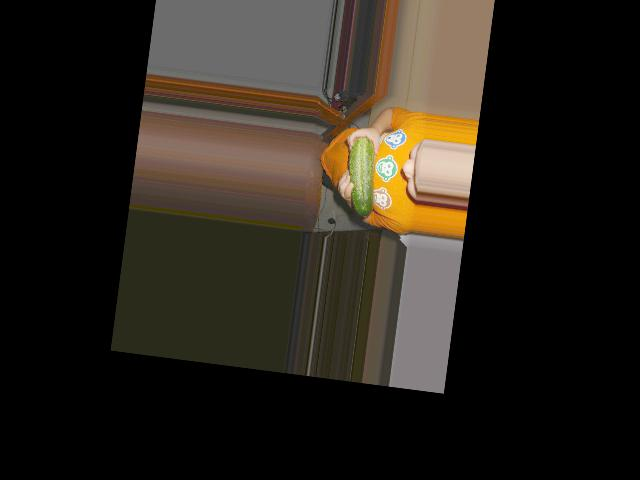cucumber: (342, 134, 381, 217)
